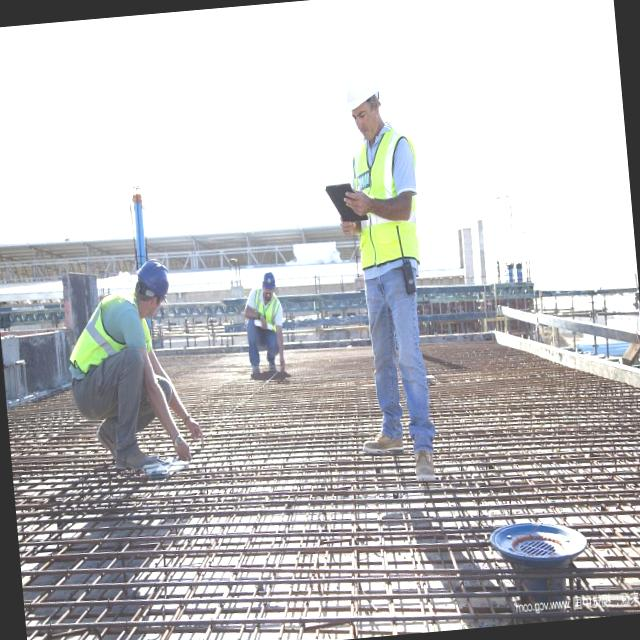helmet: (343, 70, 378, 110), (132, 264, 176, 294), (256, 268, 282, 294)
no-goggles: (346, 97, 382, 126)
vest: (351, 125, 415, 264), (67, 294, 138, 375), (248, 293, 280, 325)
